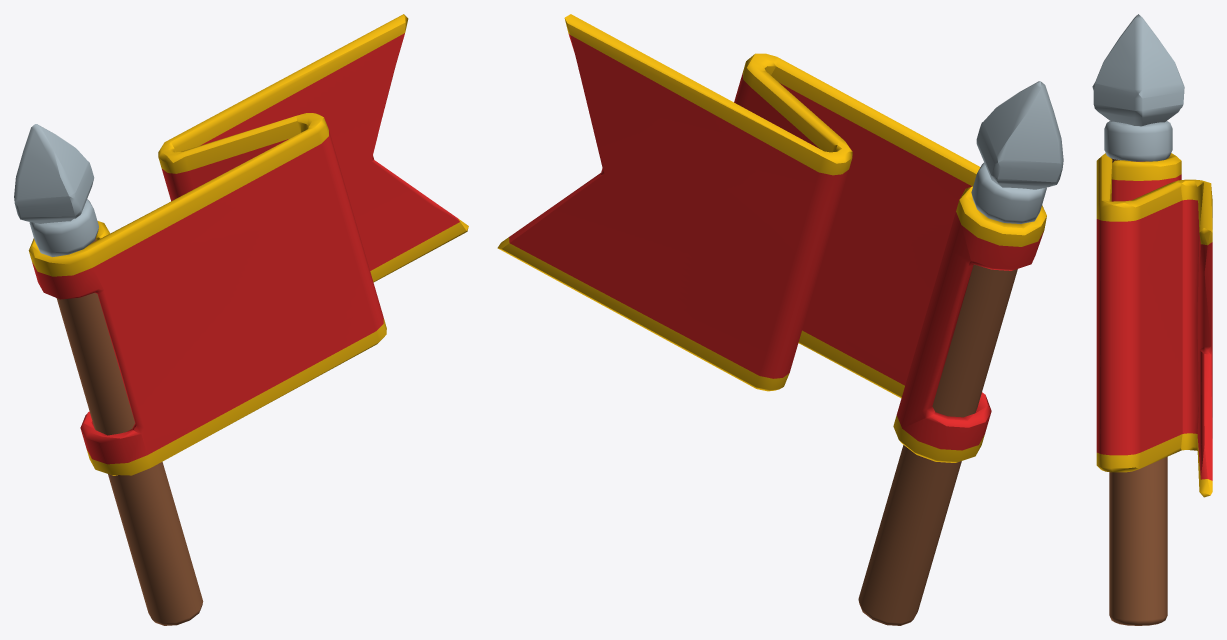
3 renders of one model, left to right at view 1: azimuth 30°, elevation 25°; view 2: azimuth 150°, elevation 25°; view 3: azimuth 270°, elevation 25°, orthographic. The views are drawn at different scales.
Parts seen in each view (by area): view 1: model_1.054; view 2: model_1.054; view 3: model_1.054.
Boxes of the visible parts, left/top/right/bottom form: model_1.054: left=14, top=14, right=468, bottom=625; model_1.054: left=497, top=14, right=1063, bottom=625; model_1.054: left=1092, top=14, right=1212, bottom=625.
Size of the model in its own units: 4.44 by 4.61 by 0.9261.
